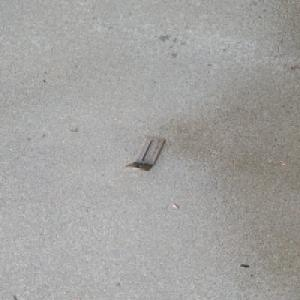MetalPart: (125, 136, 166, 171)
